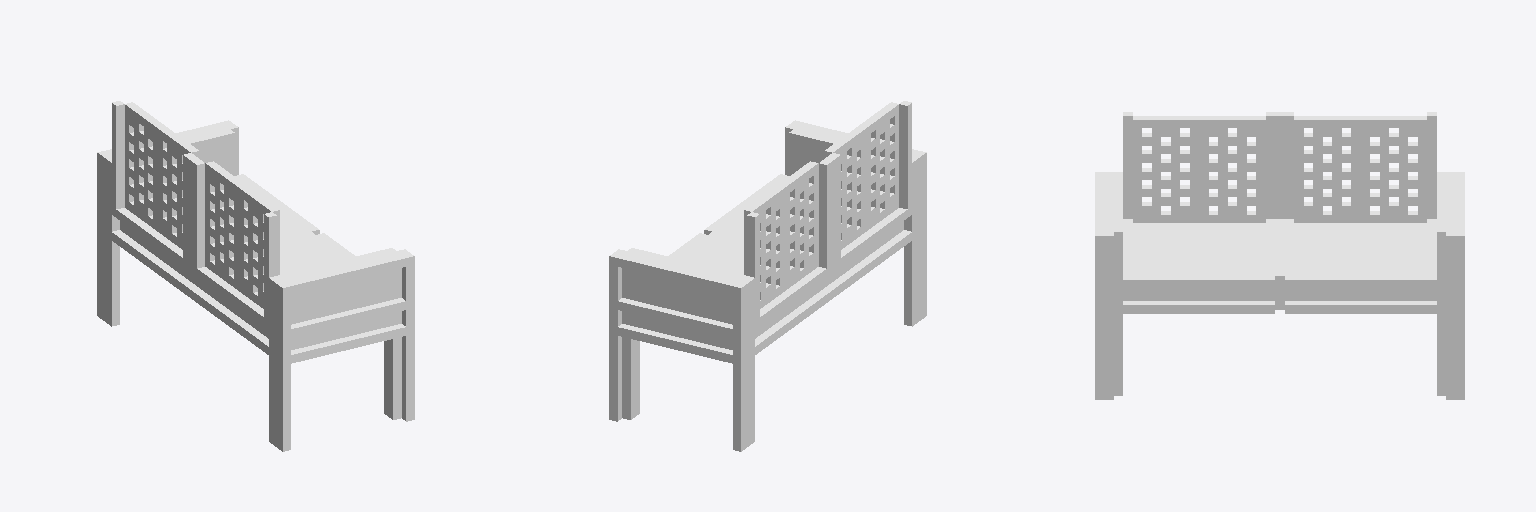
Rendered from SubwayBench1.obj.
3 renders of one model, left to right at view 1: azimuth 30°, elevation 25°; view 2: azimuth 150°, elevation 25°; view 3: azimuth 270°, elevation 25°, orthographic.
Parts seen in each view (by area): view 1: SubwayBench1; view 2: SubwayBench1; view 3: SubwayBench1.
Part boxes in pixels (bbox=[...]): SubwayBench1: bbox=[97, 101, 414, 451]; SubwayBench1: bbox=[609, 101, 926, 451]; SubwayBench1: bbox=[1095, 112, 1464, 399].
Bounding box in the file's own units: 1.6 × 2.6 × 3.9.